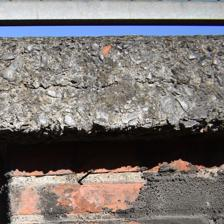Crack: (12, 38, 112, 60)
